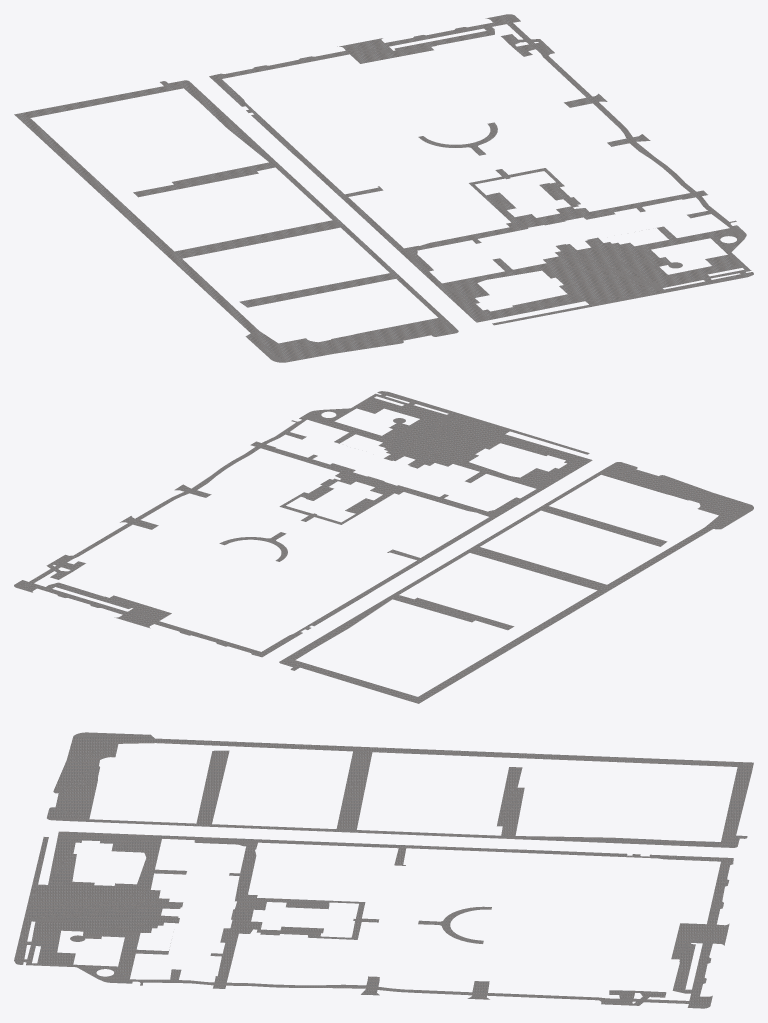
3 views of the same model, one above another, from view 1: azimuth 30°, elevation 25°; view 2: azimuth 150°, elevation 25°; view 3: azimuth 270°, elevation 25° (orthographic). The views are drawn at different scales.
Parts seen in each view (by area): view 1: Building Footprint (×4); view 2: Building Footprint (×4); view 3: Building Footprint (×5).
Boxes of the visible parts, x1,y1,x2,y2 form: Building Footprint (×4): [14, 14, 753, 362]; Building Footprint (×4): [14, 391, 753, 703]; Building Footprint (×5): [14, 732, 753, 1008].
Size of the model in its own units: 222 by 1.54e-14 by 251.
Materials: 1 (1 with a texture image).
